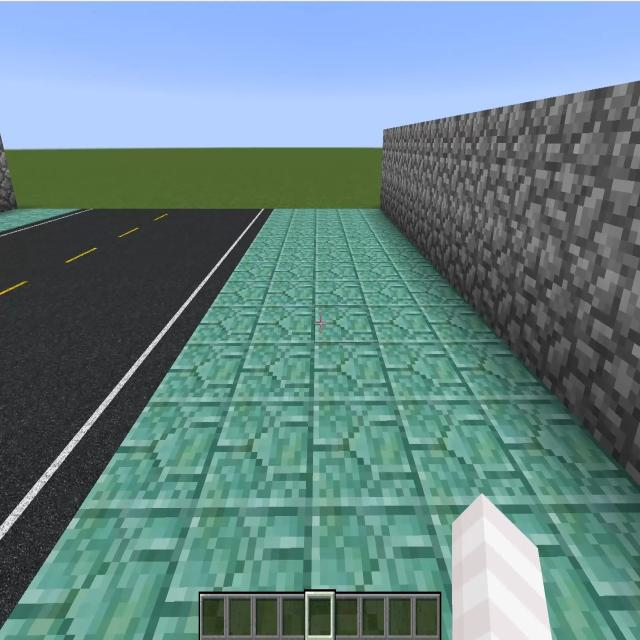road: (0, 210, 259, 522)
sidewalk: (0, 208, 640, 639), (0, 208, 75, 232)
